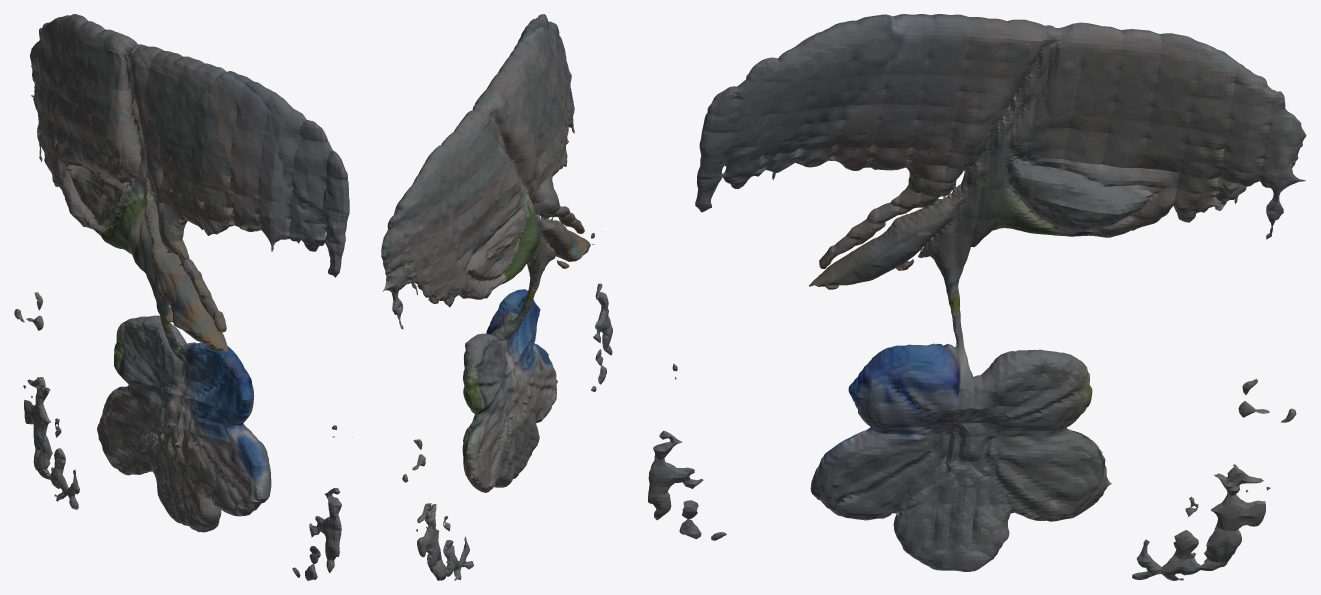
File: flower_blue.glb
3 views of the same model, side by side, from view 1: azimuth 30°, elevation 25°; view 2: azimuth 150°, elevation 25°; view 3: azimuth 270°, elevation 25° (orthographic). The views are drawn at different scales.
Parts seen in each view (by area): view 1: world; view 2: world; view 3: world.
Part boxes in pixels (x1,y1,x2,y2): world: [14, 14, 352, 580]; world: [381, 14, 612, 580]; world: [648, 14, 1306, 580].
Size of the model in its own units: 0.12 by 0.55 by 0.5581.
1 material, 1 textured.
